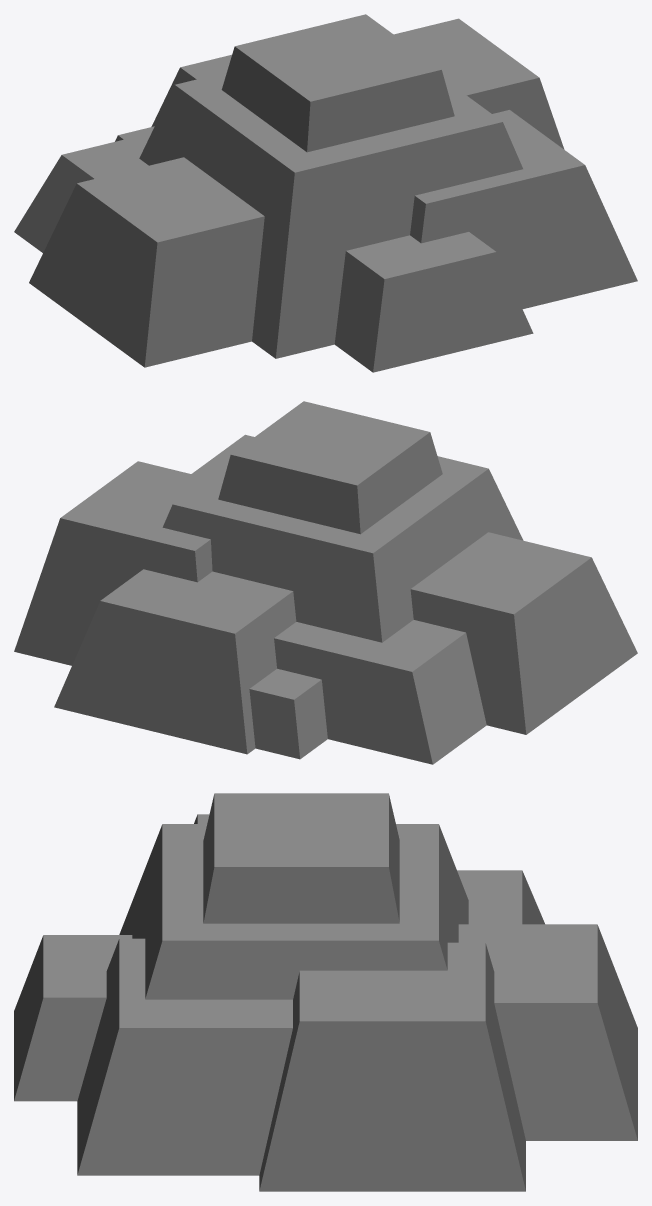
Rendered from RocaLevel1.glb.
3 views of the same model, one above another, from view 1: azimuth 30°, elevation 25°; view 2: azimuth 150°, elevation 25°; view 3: azimuth 270°, elevation 25° (orthographic). The views are drawn at different scales.
Visible parts, largest first — view 1: Env_Rocks_01; view 2: Env_Rocks_01; view 3: Env_Rocks_01.
Boxes of the visible parts, box(x1,y1,x2,y2) form: Env_Rocks_01: box(14, 14, 637, 372); Env_Rocks_01: box(14, 401, 637, 764); Env_Rocks_01: box(14, 793, 637, 1191).
Bounding box in the file's own units: 4.18 × 1.65 × 4.03.
1 material, 1 textured.
